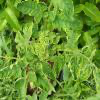Tomato leaf yellow virus: (0, 56, 28, 81), (30, 62, 51, 92), (16, 0, 42, 24), (51, 13, 82, 30), (3, 7, 21, 33), (82, 0, 100, 26), (49, 52, 66, 79), (77, 59, 91, 88), (57, 0, 75, 21), (83, 31, 96, 58), (69, 55, 80, 83), (41, 60, 56, 79), (64, 27, 77, 46), (22, 22, 34, 40), (27, 69, 38, 85), (81, 45, 90, 54), (64, 43, 73, 52), (23, 44, 28, 56), (45, 36, 50, 46), (38, 50, 45, 57), (30, 46, 36, 54), (51, 44, 57, 51), (60, 42, 64, 51)
